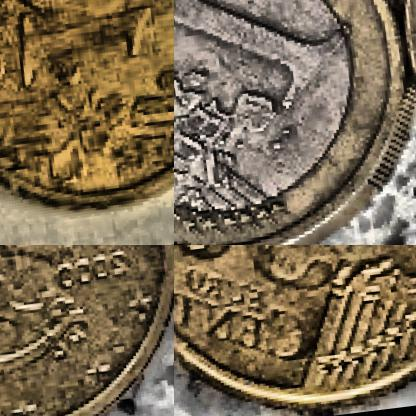coin: (174, 0, 415, 244), (174, 245, 415, 415), (0, 0, 173, 230), (0, 245, 173, 415)
